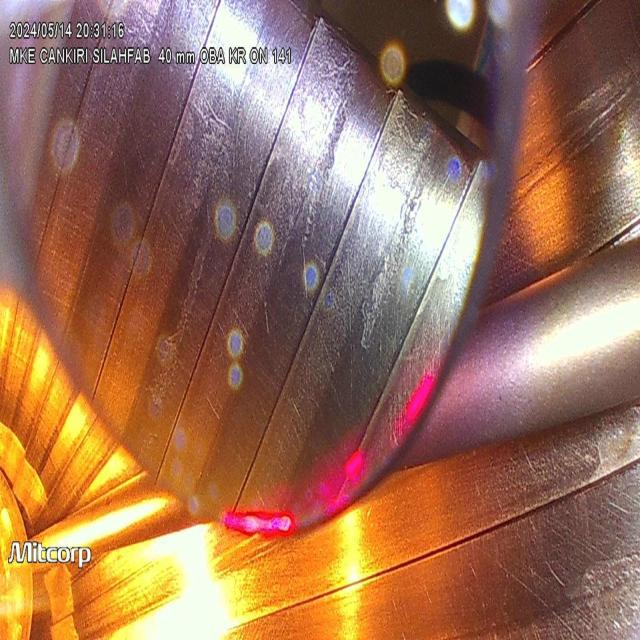hata_9.3: (135, 208, 227, 428), (276, 63, 375, 253), (360, 87, 440, 240), (340, 234, 413, 369)
